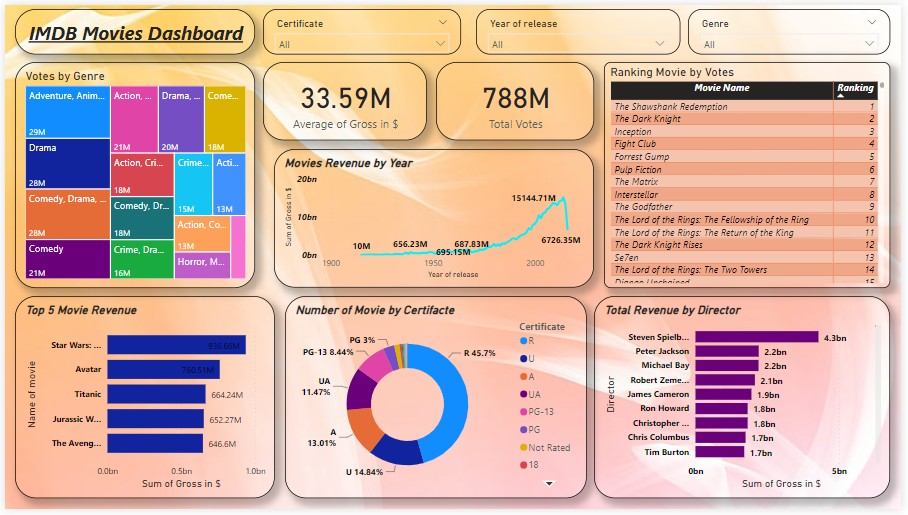

This screenshot's page, from the dashboard's own definition file:
{"tool":"powerbi","page":{"name":"Page 2","canvas":[1280,720],"ordinal":0},"visuals":[{"type":"barChart","title":"Total Revenue by Director","fields":{"Category":["Movie_Cleaned_Data.Director"],"Y":["Movie_Cleaned_Data.Gross in $"]},"box":[841.5,415.4,423.1,289.2],"z":0},{"type":"barChart","title":"Top 5 Movie Revenue","fields":{"Category":["Movie_Cleaned_Data.Name of movie"],"Y":["Movie_Cleaned_Data.Gross in $"]},"box":[13.8,415.4,370.8,289.2],"z":1000},{"type":"tableEx","title":"Ranking Movie by Votes","fields":{"Values":["Movie_Cleaned_Data.Name of movie","Movie_Cleaned_Data.Ranking"]},"box":[855.4,81.5,409.2,323.1],"z":2000},{"type":"treemap","title":"Votes by Genre","fields":{"Group":["Movie_Cleaned_Data.Genre"],"Values":["Movie_Cleaned_Data.Votes"]},"box":[13.8,81.5,343.1,323.1],"z":3000},{"type":"donutChart","title":"Number of Movie by Certifacte","fields":{"Category":["Movie_Cleaned_Data.Certificate"],"Y":["Movie_Cleaned_Data.Certificate"]},"box":[400,415.4,430.8,289.2],"z":4000},{"type":"lineChart","title":"Movies Revenue by Year","fields":{"Y":["Movie_Cleaned_Data.Gross in $"],"Category":["Movie_Cleaned_Data.Year of release"]},"box":[384.6,206.2,456.9,198.5],"z":5000},{"type":"card","fields":{"Values":["Movie_Cleaned_Data.Gross in $"]},"box":[369.2,81.5,233.8,112.3],"z":6000},{"type":"card","fields":{"Values":["Movie_Cleaned_Data.Votes"]},"box":[615.4,81.5,226.2,112.3],"z":7000},{"type":"slicer","fields":{"Values":["Movie_Cleaned_Data.Genre"]},"box":[975.4,6.2,289.2,64.6],"z":8000},{"type":"slicer","fields":{"Values":["Movie_Cleaned_Data.Year of release"]},"box":[672.3,6.2,292.3,64.6],"z":9000},{"type":"slicer","fields":{"Values":["Movie_Cleaned_Data.Certificate"]},"box":[369.2,6.2,283.1,64.6],"z":10000},{"type":"textbox","box":[13.8,6.2,343.1,64.6],"z":11000}]}

Visuals, with their boxes in screenshot pixels (x1, y1, x2, y2), scaled from the page's 1280x720 canvas onto the 908x515 screenshot:
"Total Revenue by Director" barChart: [597,297,897,504]
"Top 5 Movie Revenue" barChart: [10,297,273,504]
"Ranking Movie by Votes" tableEx: [607,58,897,289]
"Votes by Genre" treemap: [10,58,253,289]
"Number of Movie by Certifacte" donutChart: [284,297,589,504]
"Movies Revenue by Year" lineChart: [273,147,597,289]
card - Movie_Cleaned_Data.Gross in $: [262,58,428,139]
card - Movie_Cleaned_Data.Votes: [437,58,597,139]
slicer - Movie_Cleaned_Data.Genre: [692,4,897,51]
slicer - Movie_Cleaned_Data.Year of release: [477,4,684,51]
slicer - Movie_Cleaned_Data.Certificate: [262,4,463,51]
textbox: [10,4,253,51]
